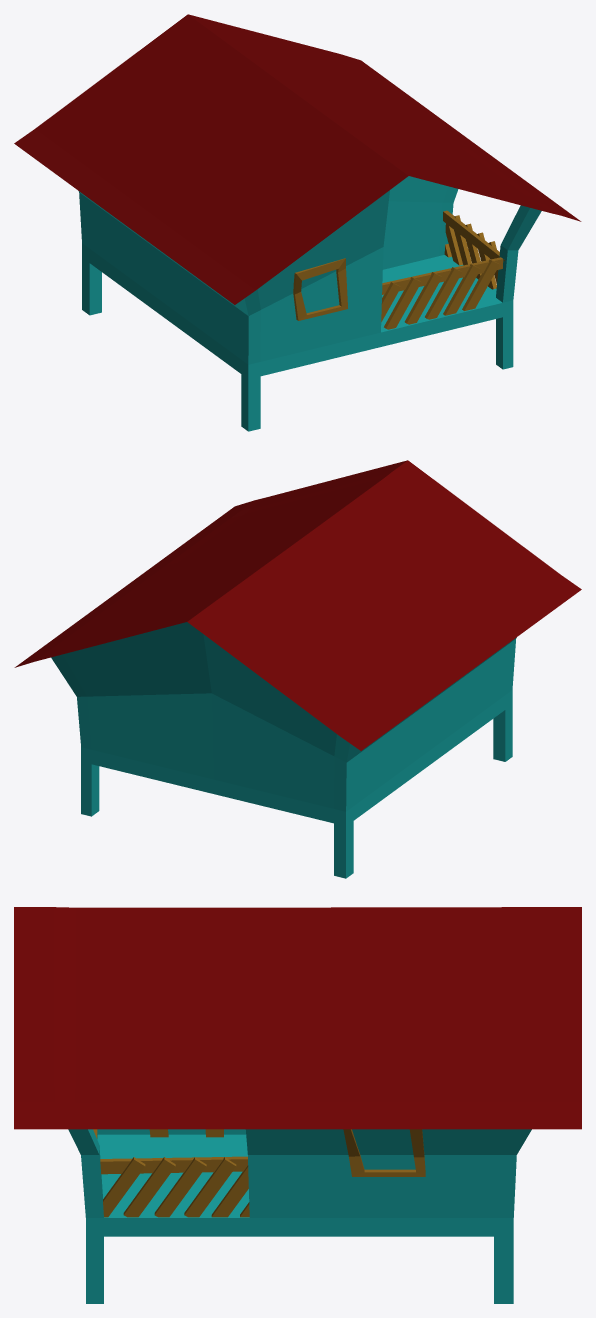
File: 27.06_Bubuia_casa1-0-1.fbx
3 views of the same model, one above another, from view 1: azimuth 30°, elevation 25°; view 2: azimuth 150°, elevation 25°; view 3: azimuth 270°, elevation 25° (orthographic). The views are drawn at different scales.
Parts seen in each view (by area): view 1: Cube; view 2: Cube; view 3: Cube.
Boxes of the visible parts, box(x1,y1,x2,y2) form: Cube: box(14, 14, 581, 431); Cube: box(14, 460, 581, 878); Cube: box(14, 907, 581, 1303).
Bounding box in the file's own units: 11.36 × 7.63 × 12.52.
